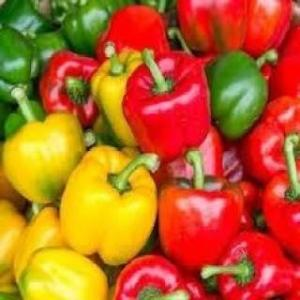bell_pepper: (62, 149, 157, 261), (155, 150, 239, 272), (1, 95, 85, 203), (126, 50, 210, 152), (202, 44, 282, 142), (210, 228, 300, 300), (174, 0, 294, 50), (42, 49, 102, 130), (113, 258, 202, 300)
